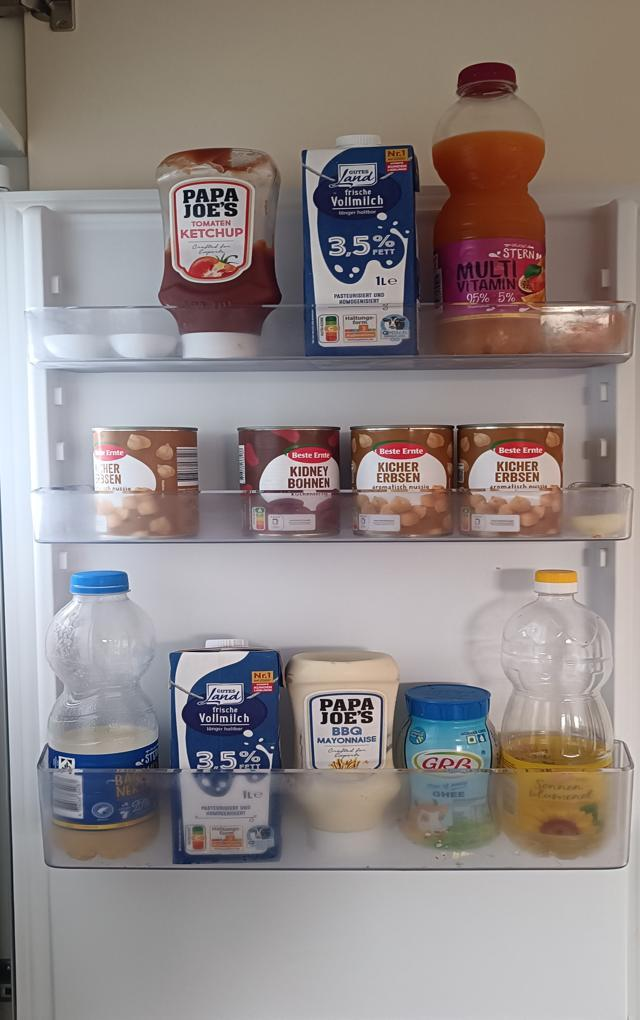bananajuice: (45, 567, 161, 863)
chickpeas: (90, 427, 204, 537), (350, 424, 455, 541), (459, 427, 569, 536)
ghee: (397, 677, 500, 857)
kidneybeans: (236, 423, 344, 541)
mayoniasie: (290, 649, 404, 865)
milk: (299, 134, 423, 362), (167, 636, 286, 866)
oil: (498, 565, 619, 861)
orangejuice: (428, 52, 556, 370)
tomatoketchup: (152, 143, 284, 364)
